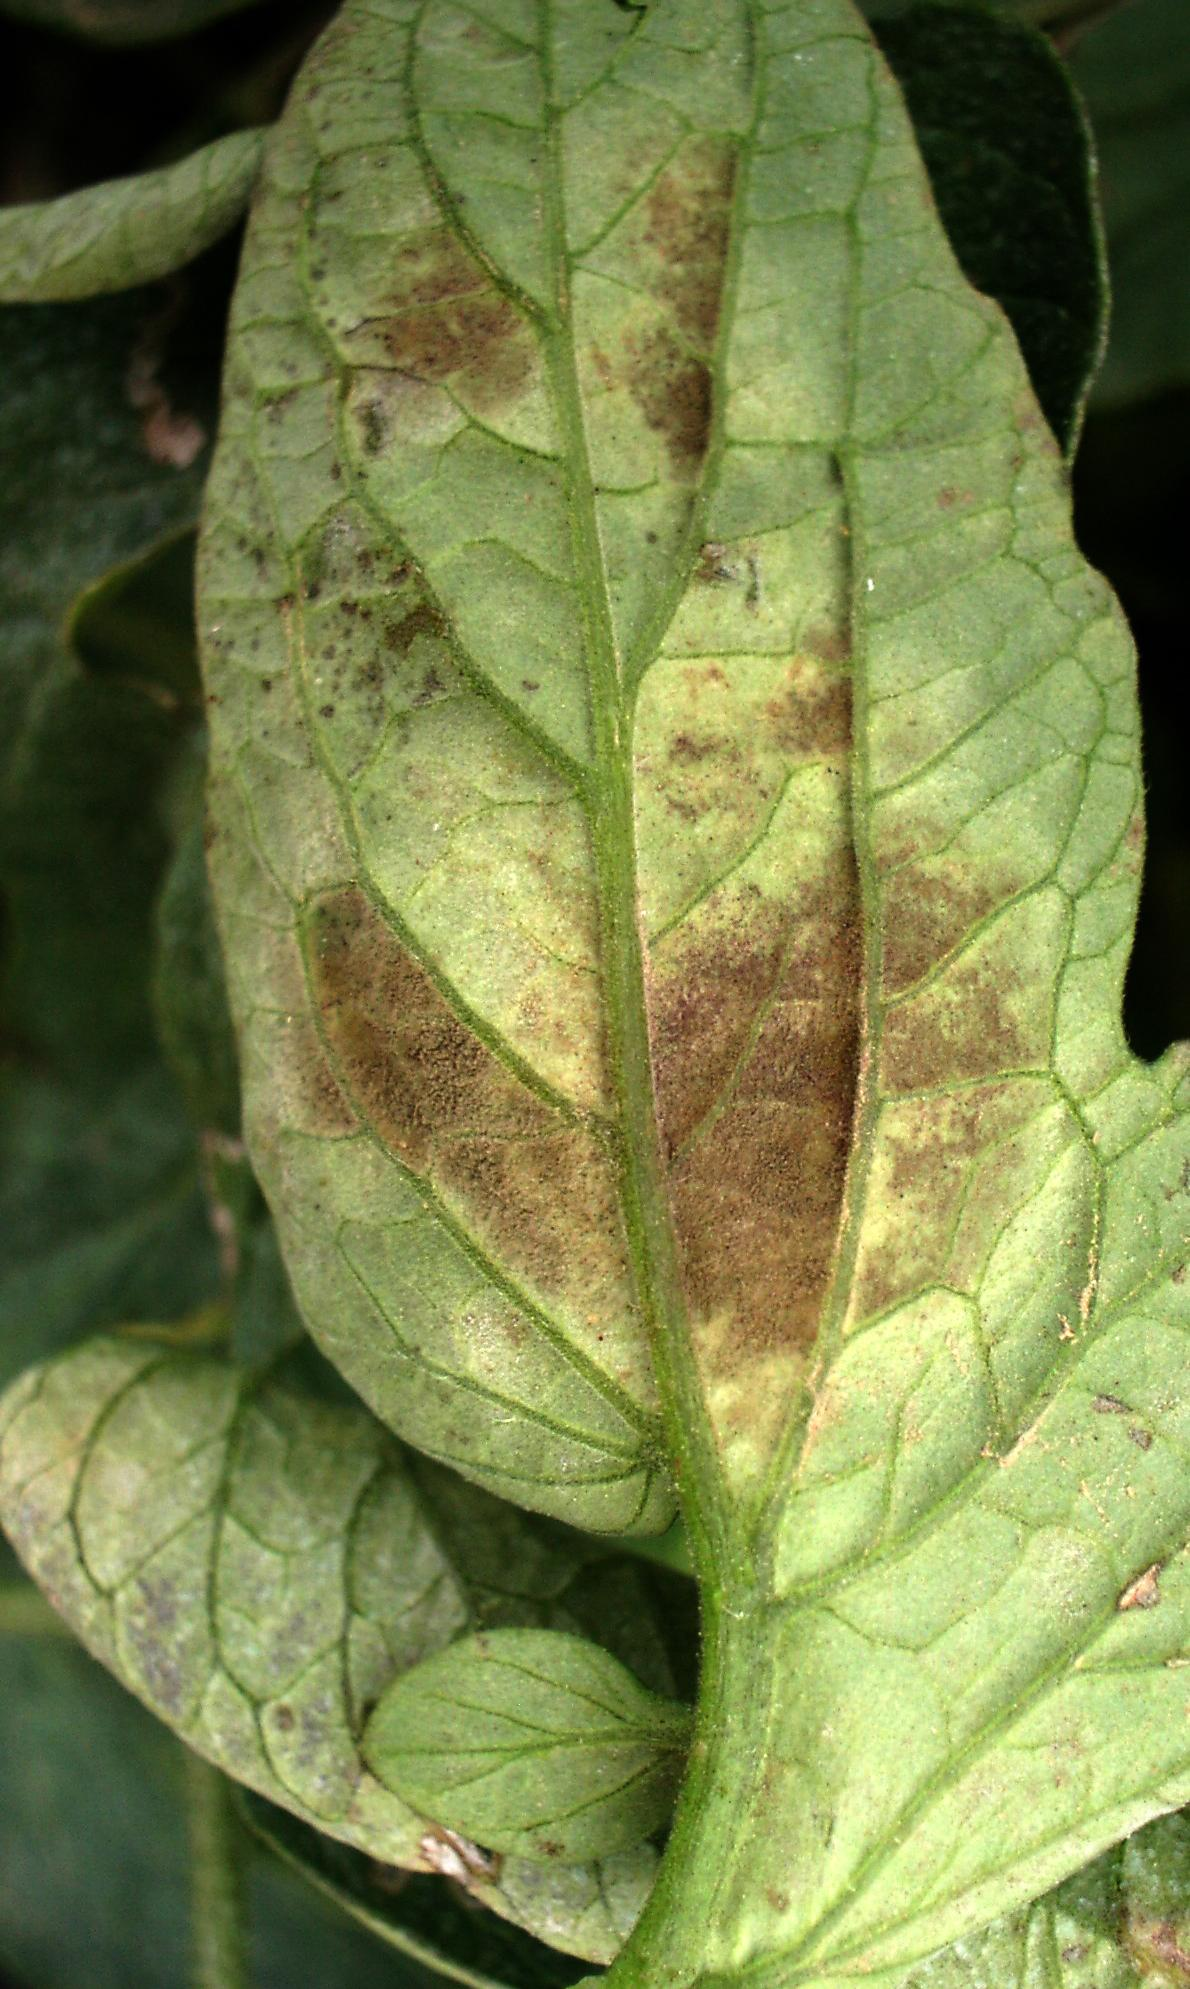Tomato mold leaf: (137, 0, 1159, 1927), (1, 1257, 606, 1929)
